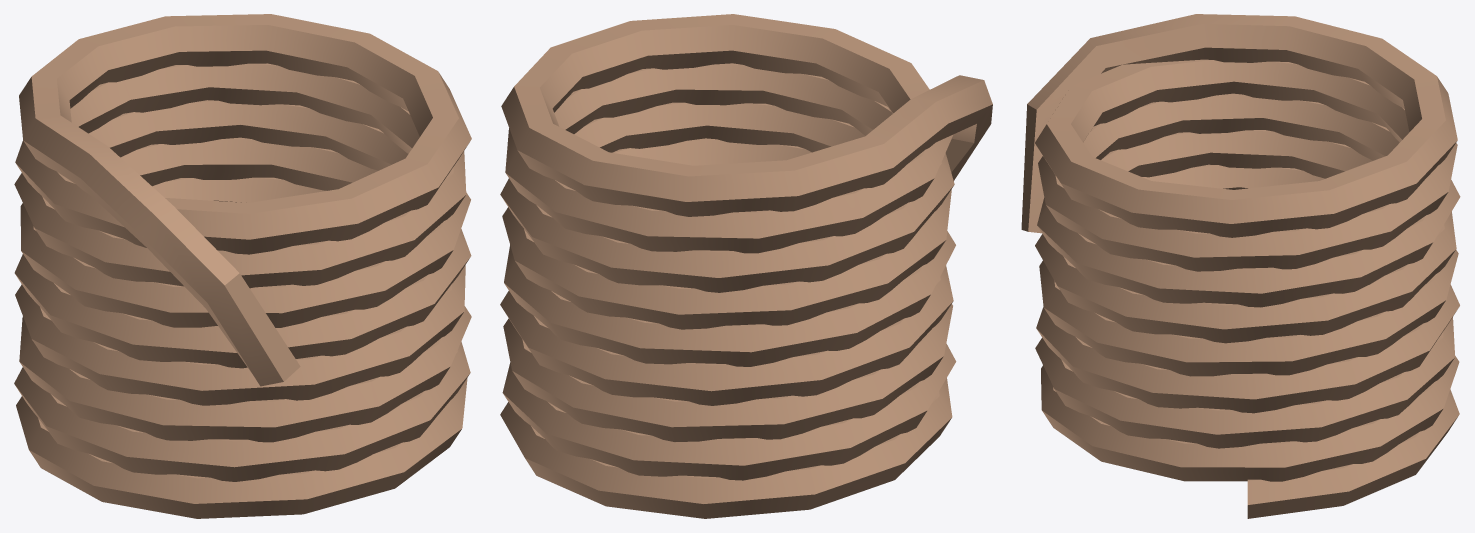
The model's file is Rope Coil 1.fbx.
3 renders of one model, left to right at view 1: azimuth 30°, elevation 25°; view 2: azimuth 150°, elevation 25°; view 3: azimuth 270°, elevation 25°, orthographic. The views are drawn at different scales.
Parts seen in each view (by area): view 1: Rope_Coil; view 2: Rope_Coil; view 3: Rope_Coil.
Boxes of the visible parts, left/top/right/bottom form: Rope_Coil: left=14, top=14, right=471, bottom=518; Rope_Coil: left=500, top=14, right=992, bottom=518; Rope_Coil: left=1021, top=14, right=1460, bottom=518.
Bounding box in the file's own units: 35.84 × 31.4 × 36.96.
